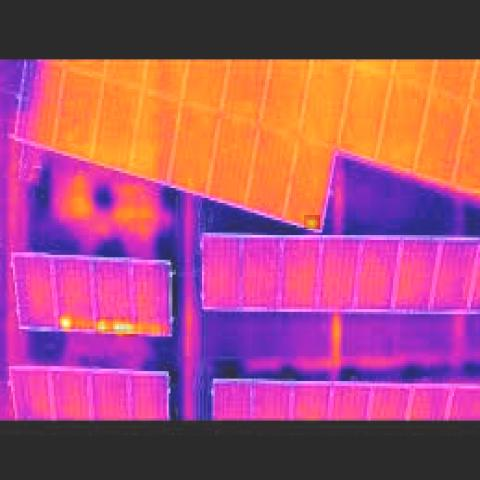fault: (96, 317, 138, 337), (58, 315, 76, 330), (304, 215, 320, 229)
